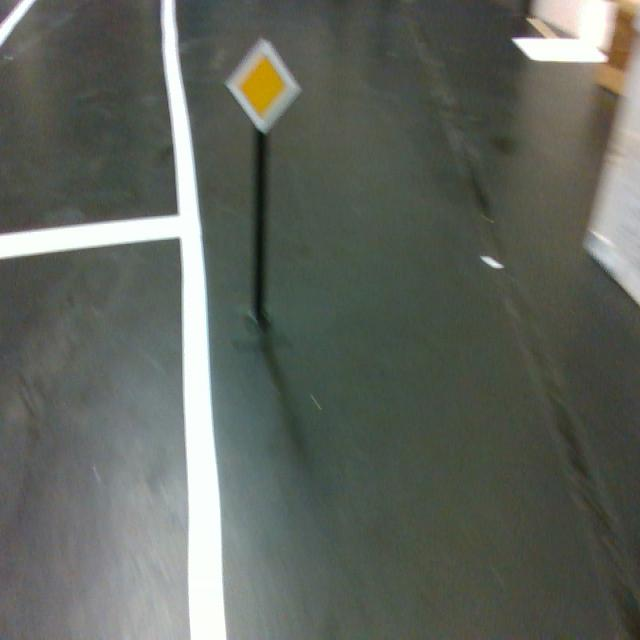priority-sign: (222, 35, 304, 136)
